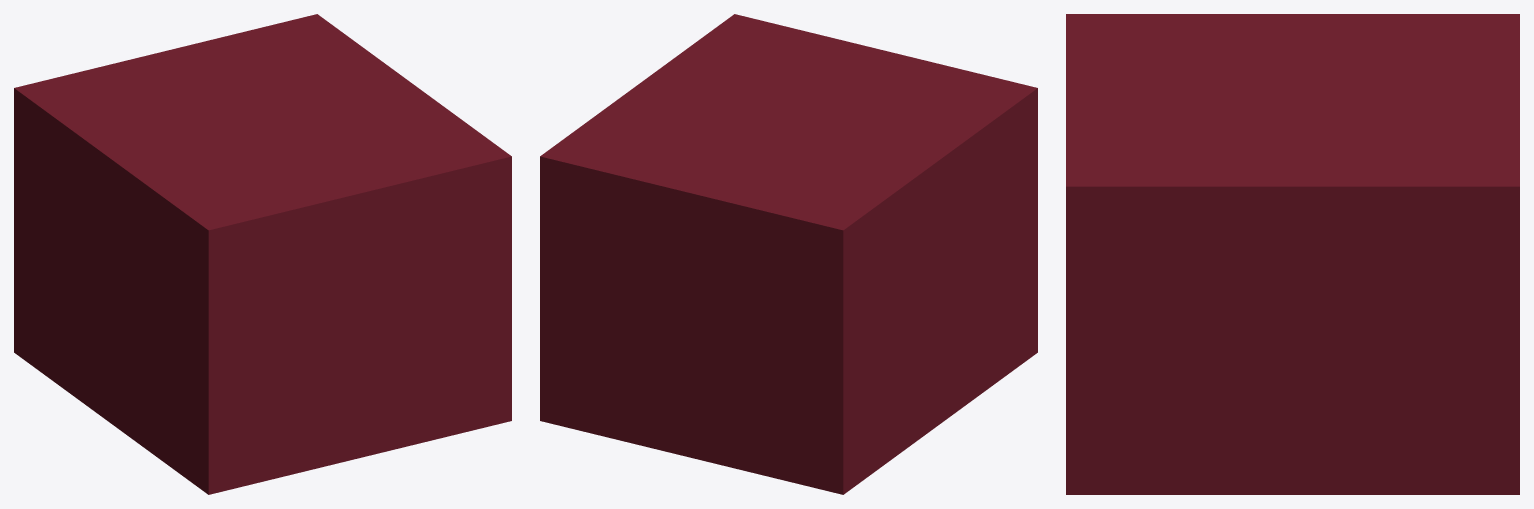
File: stage_003_grp.fbx
3 renders of one model, left to right at view 1: azimuth 30°, elevation 25°; view 2: azimuth 150°, elevation 25°; view 3: azimuth 270°, elevation 25°, orthographic. The views are drawn at different scales.
Visible parts, largest first — view 1: stage_003_grp; view 2: stage_003_grp; view 3: stage_003_grp.
Boxes of the visible parts, box(x1,y1,x2,y2) form: stage_003_grp: box(14, 14, 511, 494); stage_003_grp: box(540, 14, 1037, 494); stage_003_grp: box(1066, 14, 1519, 494).
Size of the model in its own units: 360 by 300 by 400.
